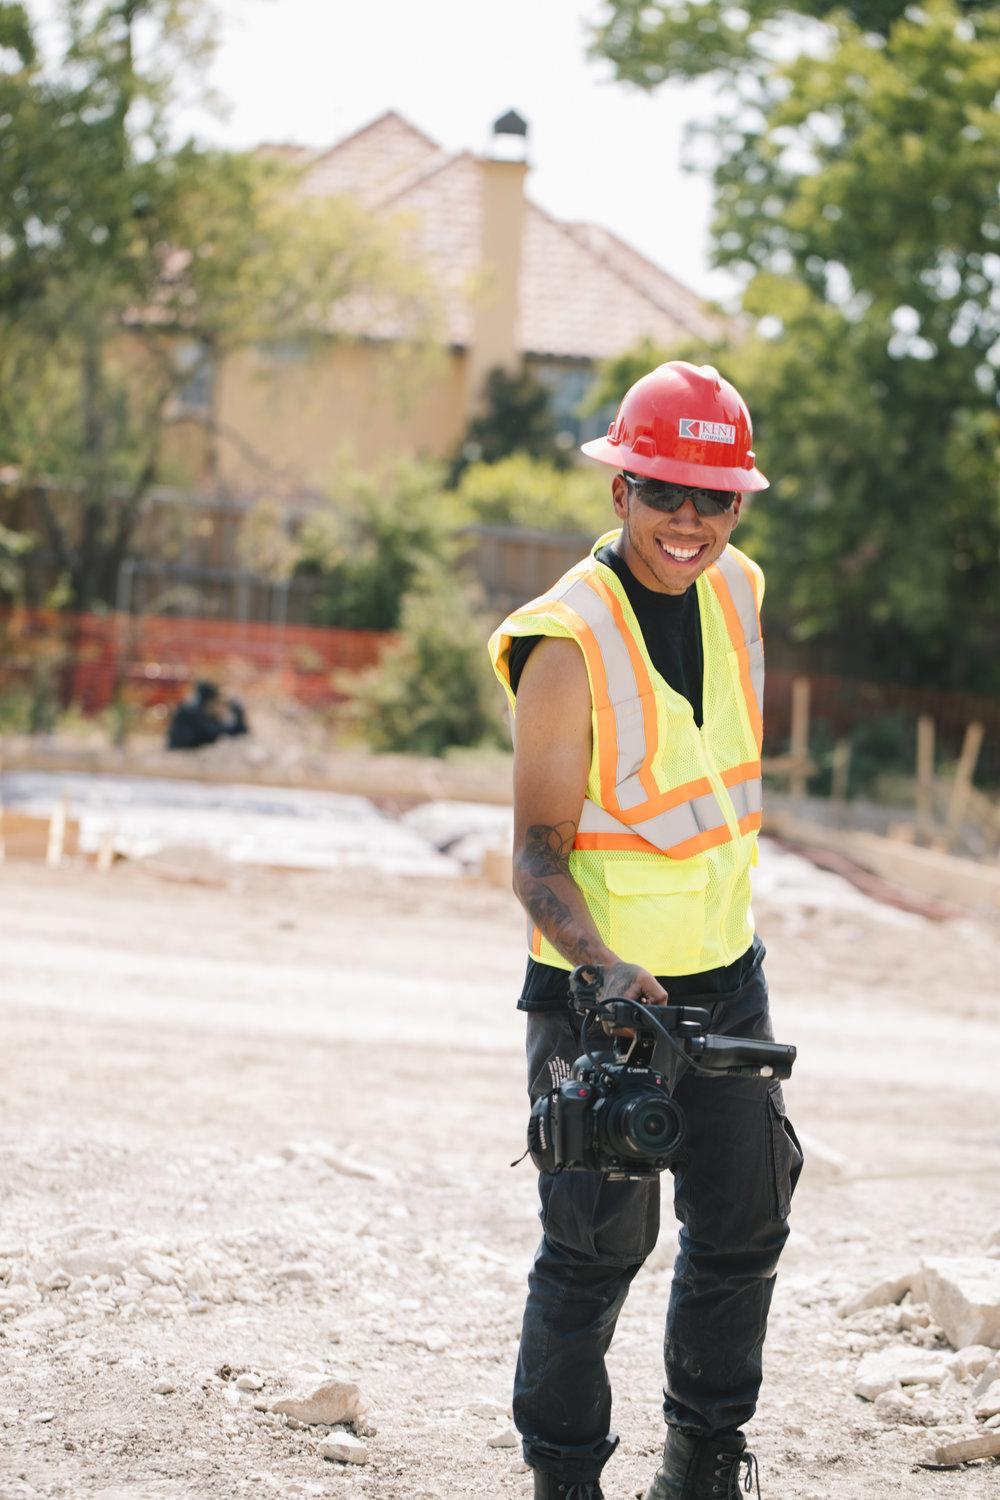helmet: (586, 359, 766, 499)
